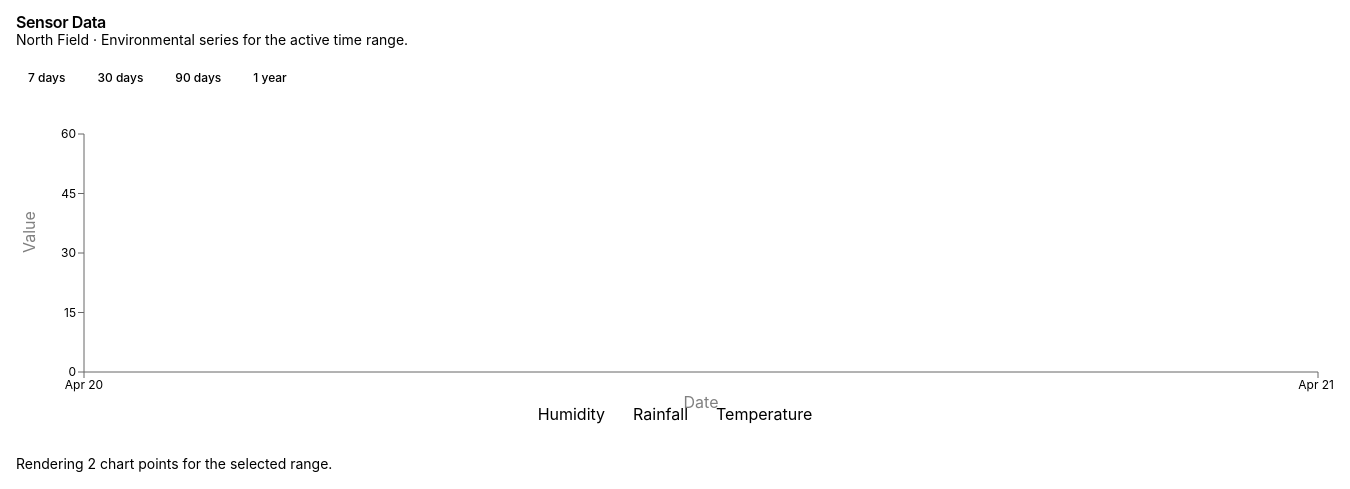
Test case: SensorDataChart › switches time ranges and reruns the chart query with the selected range
Expected: the text "Rendering 2 chart points for the selected range." is shown, [16, 455, 332, 472]
What coordinates should you click on to do the following:
click the button "7 days"
I would click on:
 (47, 78)
Its box is [16, 62, 78, 94].
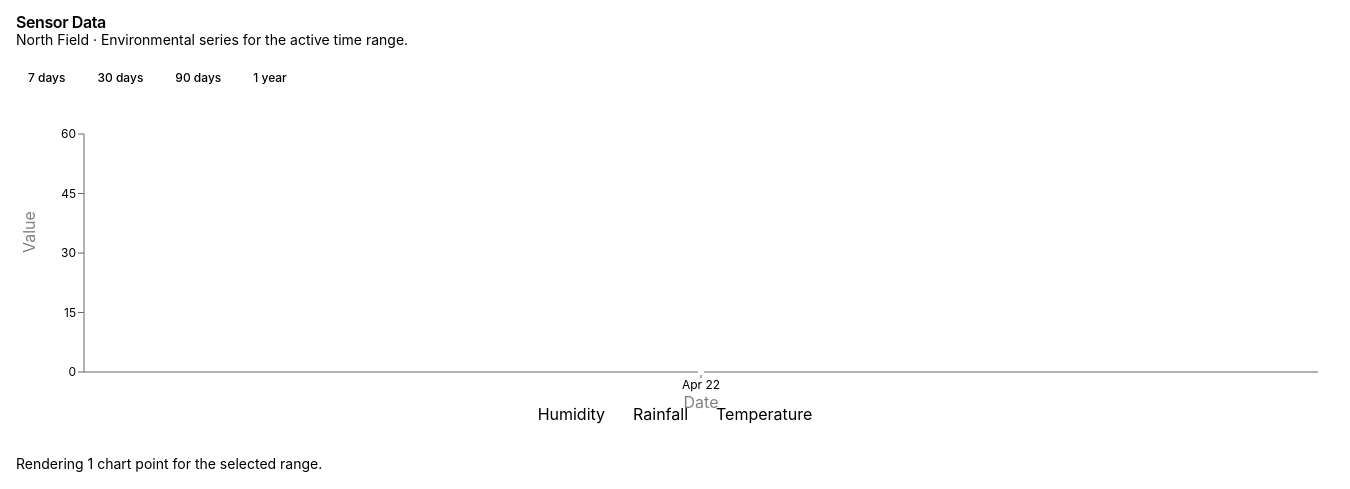
Expected: the text "Rendering 1 chart point for the selected range." is shown, [16, 455, 322, 472]
